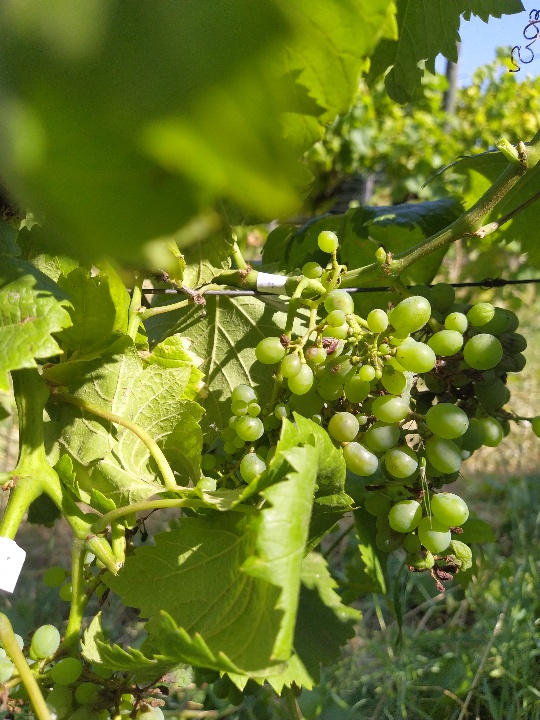grape: (203, 229, 537, 595)
